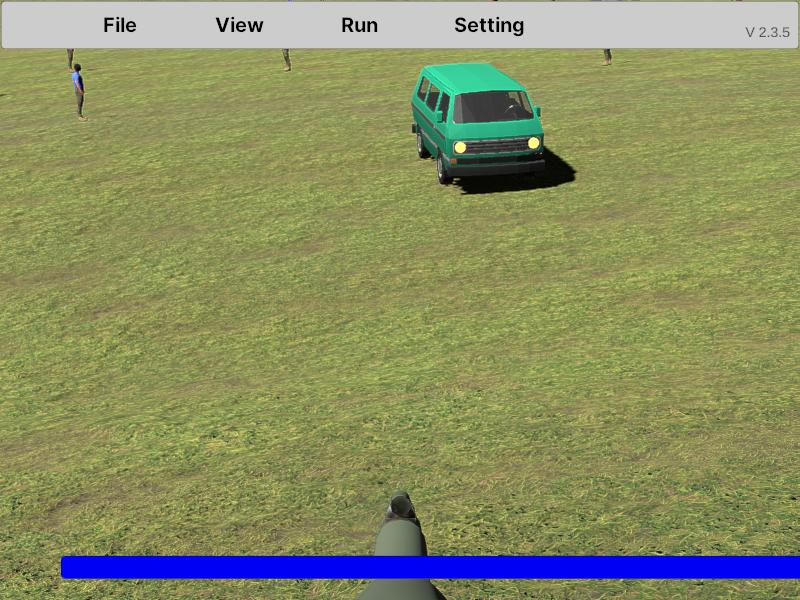Human: (72, 63, 89, 122)
car: (411, 63, 545, 186)
